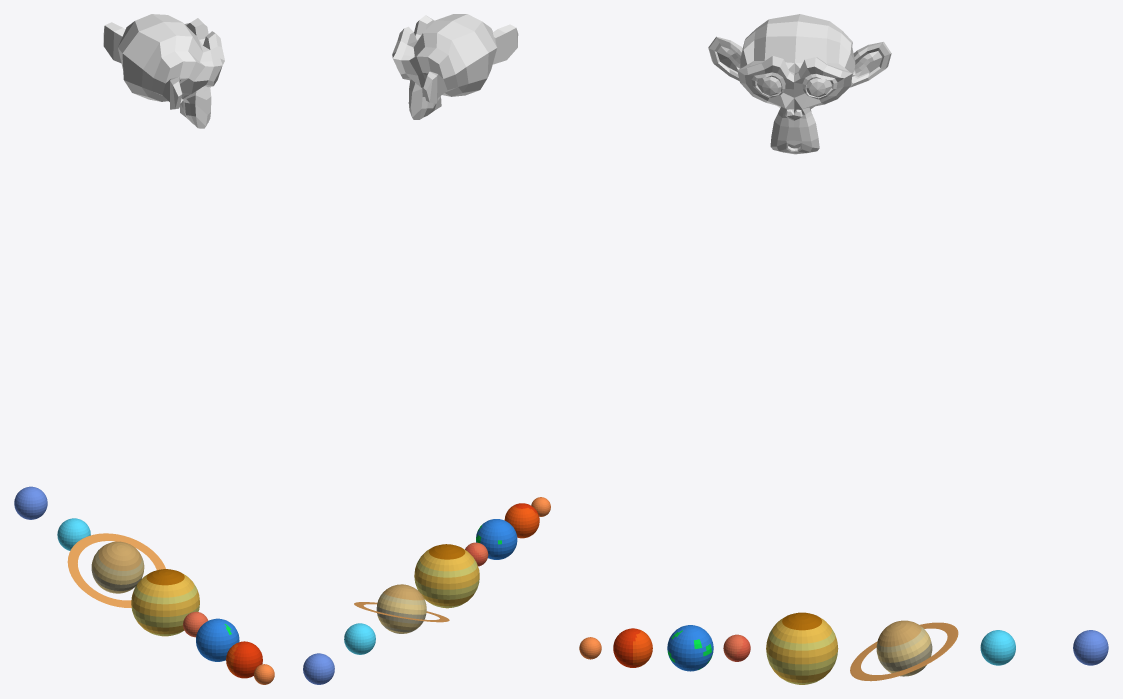
The model's file is Planetas.fbx.
The picture shows the model from 3 angles, left to right: view 1: azimuth 30°, elevation 25°; view 2: azimuth 150°, elevation 25°; view 3: azimuth 270°, elevation 25°; orthographic projection. The views are drawn at different scales.
Visible parts, largest first — view 1: Suzanne, Esfera UV.005, Esfera UV.004, Esfera UV.002, Esfera UV.001, Esfera UV.007, Esfera UV.006, Esfera UV.003; view 2: Suzanne, Esfera UV.004, Esfera UV.005, Esfera UV.002, Esfera UV.001, Esfera UV.006, Esfera UV.007; view 3: Suzanne, Esfera UV.004, Esfera UV.005, Esfera UV.002, Esfera UV.001, Esfera UV.007, Esfera UV.006.
Boxes of the visible parts, x1=… form: Suzanne: x1=103, y1=14, x2=224, y2=128; Esfera UV.005: x1=67, y1=533, x2=165, y2=607; Esfera UV.004: x1=131, y1=569, x2=199, y2=636; Esfera UV.002: x1=196, y1=618, x2=239, y2=661; Esfera UV.001: x1=226, y1=641, x2=262, y2=678; Esfera UV.007: x1=14, y1=486, x2=47, y2=519; Esfera UV.006: x1=57, y1=518, x2=90, y2=550; Esfera UV.003: x1=183, y1=611, x2=208, y2=637; Suzanne: x1=392, y1=14, x2=518, y2=119; Esfera UV.004: x1=414, y1=544, x2=479, y2=608; Esfera UV.005: x1=354, y1=584, x2=449, y2=633; Esfera UV.002: x1=476, y1=519, x2=517, y2=559; Esfera UV.001: x1=504, y1=503, x2=539, y2=538; Esfera UV.006: x1=344, y1=623, x2=375, y2=654; Esfera UV.007: x1=303, y1=653, x2=334, y2=684; Suzanne: x1=708, y1=14, x2=891, y2=154; Esfera UV.004: x1=766, y1=612, x2=838, y2=684; Esfera UV.005: x1=850, y1=620, x2=958, y2=681; Esfera UV.002: x1=667, y1=625, x2=713, y2=671; Esfera UV.001: x1=613, y1=628, x2=652, y2=667; Esfera UV.007: x1=1073, y1=630, x2=1108, y2=665; Esfera UV.006: x1=980, y1=630, x2=1015, y2=665.
Bounding box in the file's own units: 969 × 6482 × 4727.
